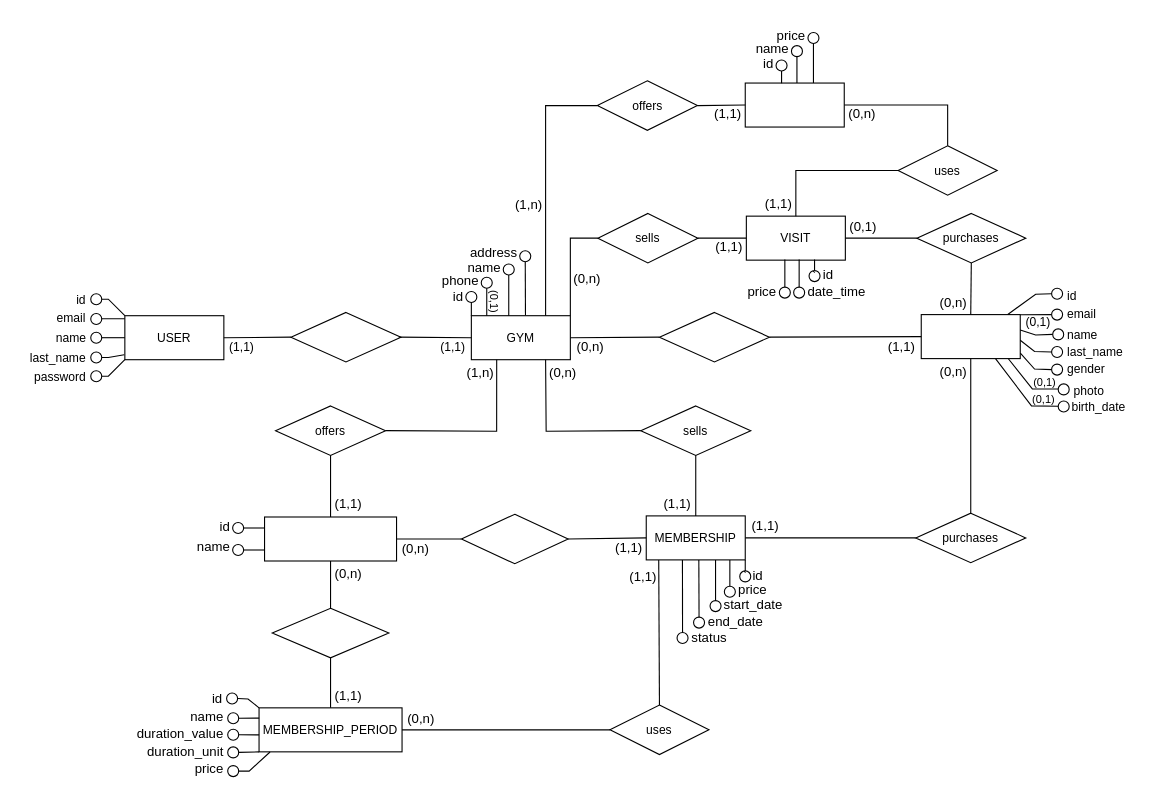
Image size: 1165x804. Some labels were removed from this diagram. Here are the shapes that lost their labels. From the top down, the centre of each, then its label:
At (x=794, y=104): "VISIT_TYPE".
At (x=345, y=336): "manages".
At (x=713, y=336): "has".
At (x=970, y=336): "MEMBER".
At (x=330, y=538): "MEMBERSHIP_TYPE".
At (x=514, y=538): "is based on".
At (x=330, y=632): "has available".
